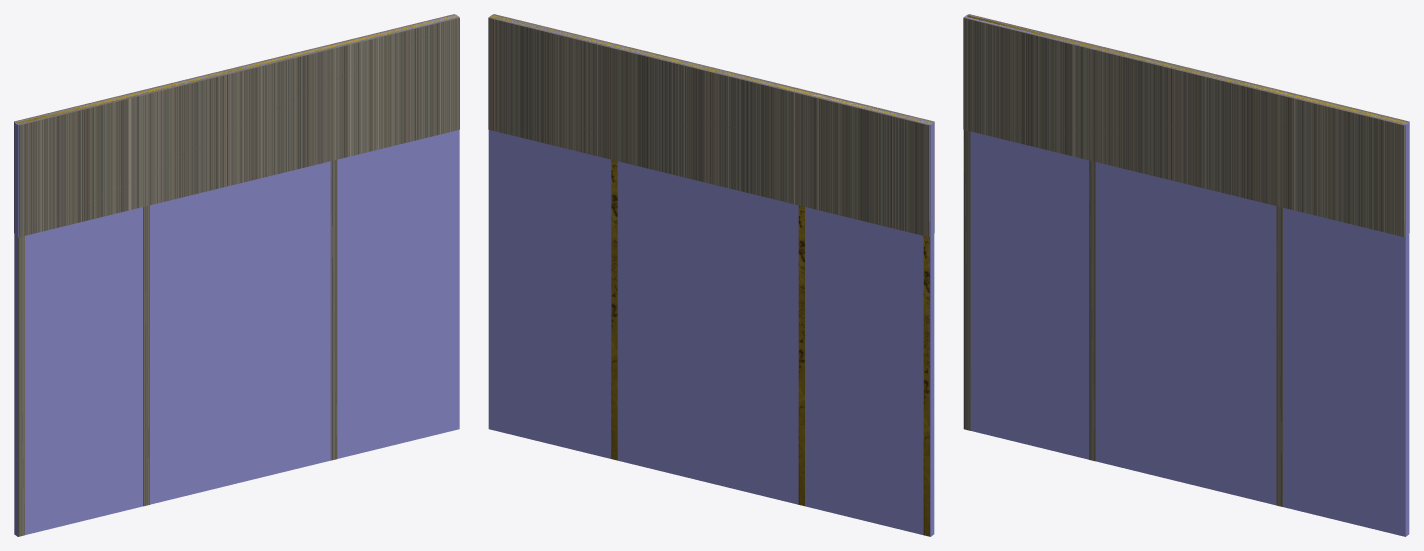
Rendered from walkway_02_railing_long.DAE.
The picture shows the model from 3 angles, left to right: view 1: azimuth 30°, elevation 25°; view 2: azimuth 150°, elevation 25°; view 3: azimuth 330°, elevation 25°; orthographic projection.
Parts seen in each view (by area): view 1: bounds, colbox-02, colbox-04, colbox-03, colbox-01, walkway_02_rail_long; view 2: bounds, colbox-02, walkway_02_rail_long; view 3: bounds, colbox-02, colbox-03, colbox-01, colbox-04, walkway_02_rail_long.
Part boxes in pixels (x1=…): bounds: x1=14, y1=14, x2=459, y2=536; colbox-02: x1=14, y1=14, x2=459, y2=236; colbox-04: x1=330, y1=160, x2=337, y2=460; colbox-03: x1=143, y1=205, x2=149, y2=506; colbox-01: x1=18, y1=236, x2=24, y2=536; walkway_02_rail_long: x1=17, y1=15, x2=457, y2=123; bounds: x1=488, y1=14, x2=934, y2=536; colbox-02: x1=488, y1=14, x2=934, y2=236; walkway_02_rail_long: x1=490, y1=15, x2=930, y2=536; bounds: x1=963, y1=14, x2=1409, y2=536; colbox-02: x1=963, y1=14, x2=1409, y2=236; colbox-03: x1=1089, y1=160, x2=1095, y2=461; colbox-01: x1=964, y1=130, x2=970, y2=430; colbox-04: x1=1276, y1=206, x2=1282, y2=506; walkway_02_rail_long: x1=967, y1=15, x2=1406, y2=123.
Bounding box in the file's own units: 707 × 15 × 630.
3 materials, 2 textured.
